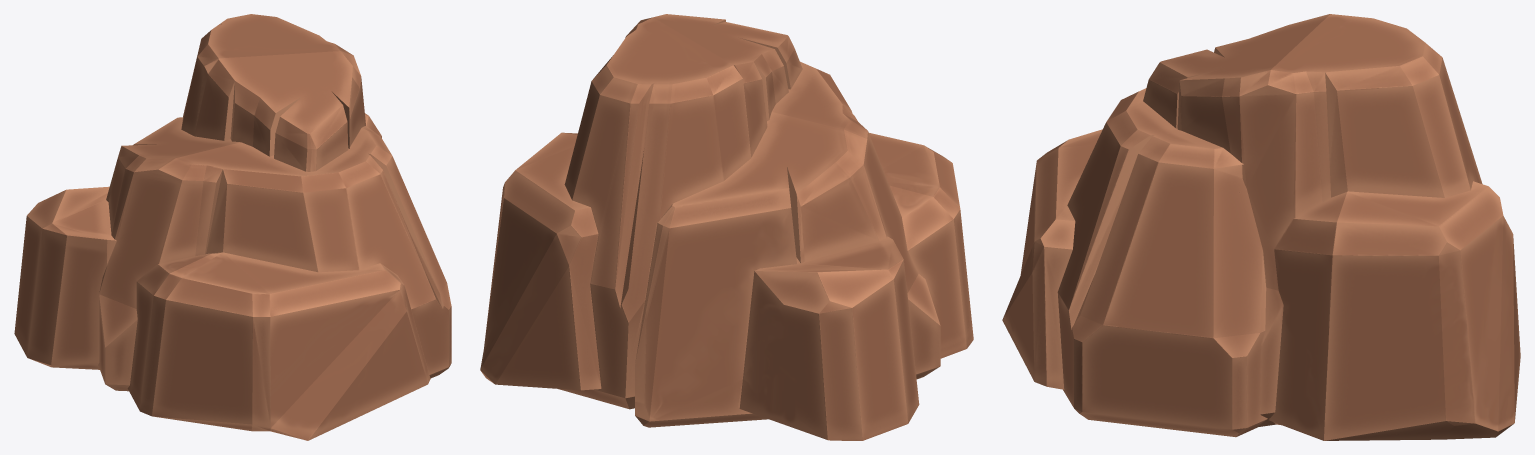
File: Rocaopiedraloquesea.glb
3 views of the same model, side by side, from view 1: azimuth 30°, elevation 25°; view 2: azimuth 150°, elevation 25°; view 3: azimuth 270°, elevation 25° (orthographic). The views are drawn at different scales.
Visible parts, largest first — view 1: Cube.009; view 2: Cube.009; view 3: Cube.009.
Boxes of the visible parts, x1,y1,x2,y2 form: Cube.009: (14,14,451,440); Cube.009: (480,14,973,440); Cube.009: (1002,14,1520,440).
Size of the model in its own units: 15.99 by 12.36 by 16.98.
Materials: 1 (1 with a texture image).
